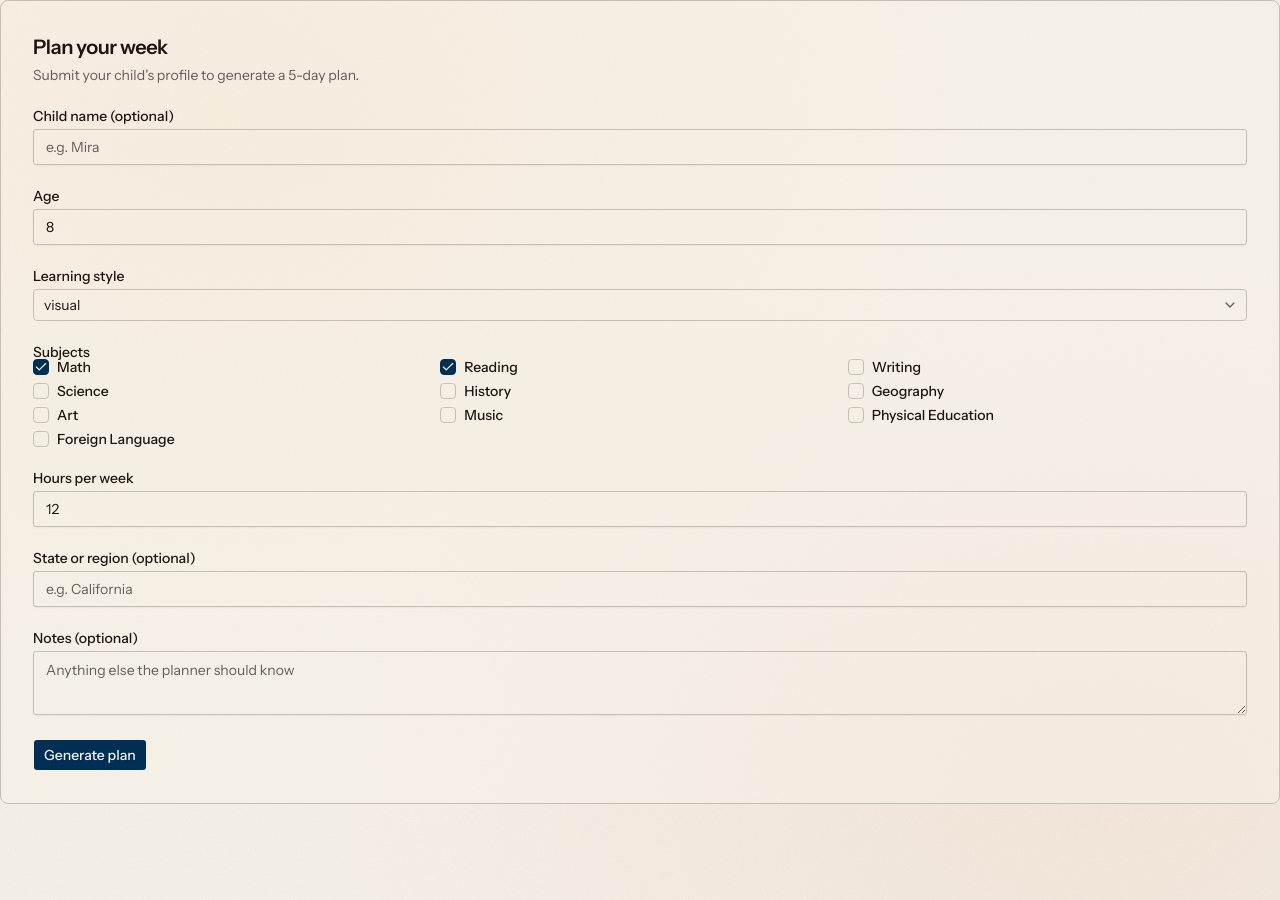
Test: ClassMapFlow — live (non-demo) API path › renders the error alert when fetch throws (network failure)
What coordinates should you click on to do the following:
click the button "Generate plan"
I would click on:
 (90, 755)
Its box is [33, 739, 147, 771].
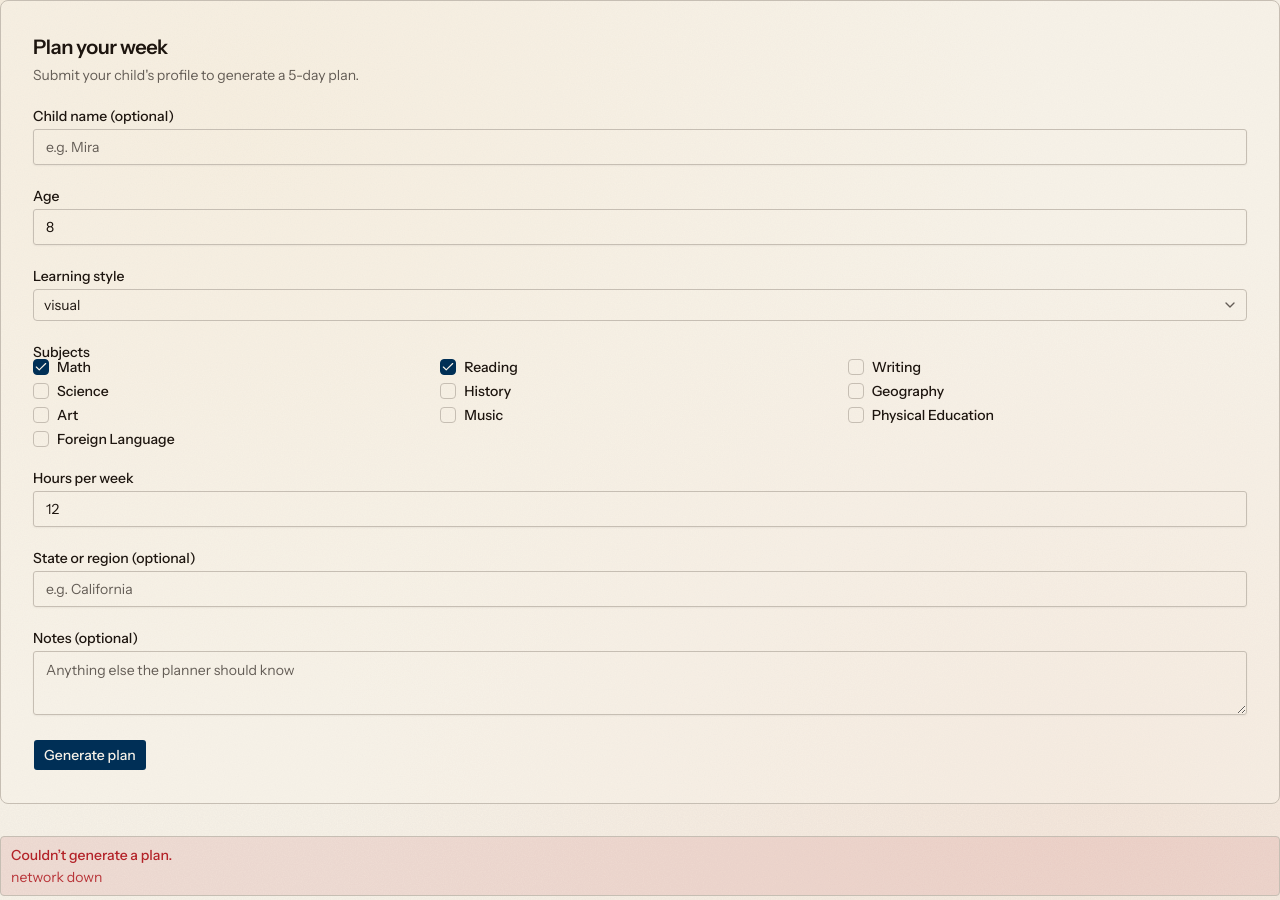
Check: the message "Couldn’t generate a plan. network down" is shown, box [0, 836, 1279, 896]
Check: the text "network down" is shown, box [11, 868, 102, 886]
